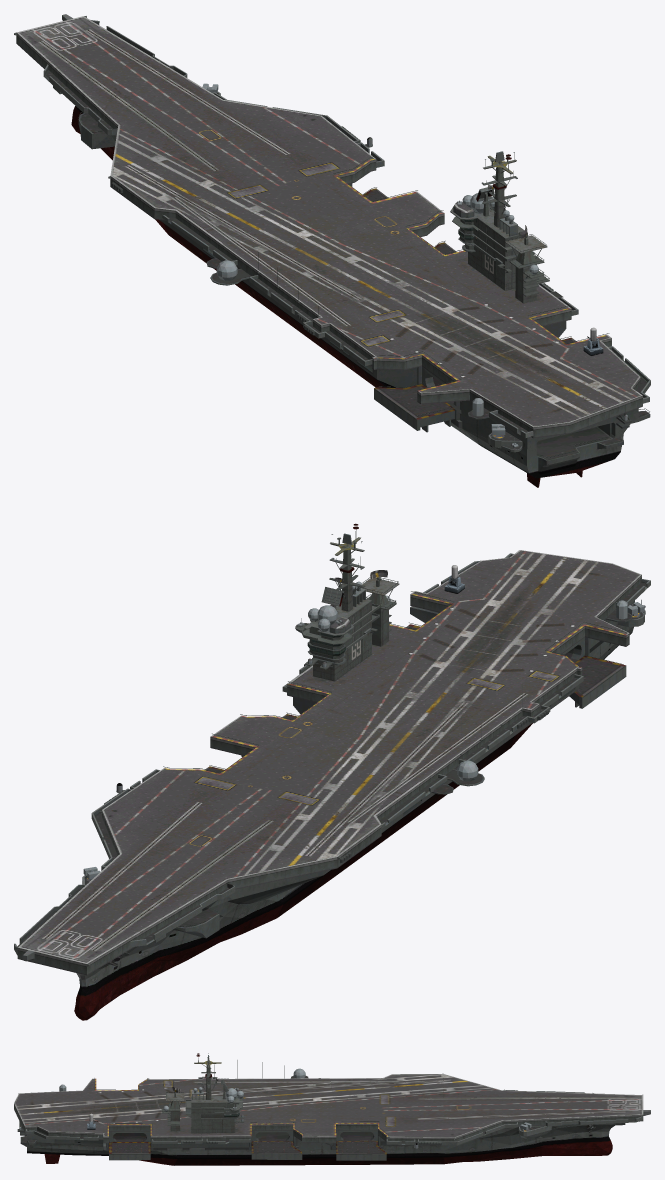
File: accarrier.obj
3 views of the same model, one above another, from view 1: azimuth 30°, elevation 25°; view 2: azimuth 150°, elevation 25°; view 3: azimuth 270°, elevation 25° (orthographic). The views are drawn at different scales.
Visible parts, largest first — view 1: DrawCall_0021, DrawCall_0022; view 2: DrawCall_0021, DrawCall_0022; view 3: DrawCall_0021, DrawCall_0022.
Part boxes in pixels (x1,y1,x2,y2): DrawCall_0021: (16, 16, 650, 438); DrawCall_0022: (14, 14, 650, 487); DrawCall_0021: (14, 549, 650, 965); DrawCall_0022: (15, 526, 645, 1020); DrawCall_0021: (14, 1064, 643, 1165); DrawCall_0022: (14, 1053, 650, 1165).
Bounding box in the file's own units: 294 × 242 × 1062.
Materials: 3 (3 with a texture image).
